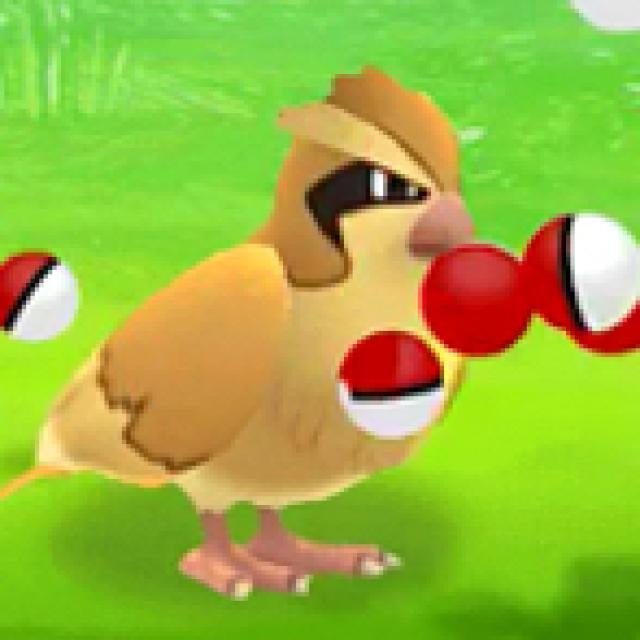Pidgey: (54, 59, 472, 603)
